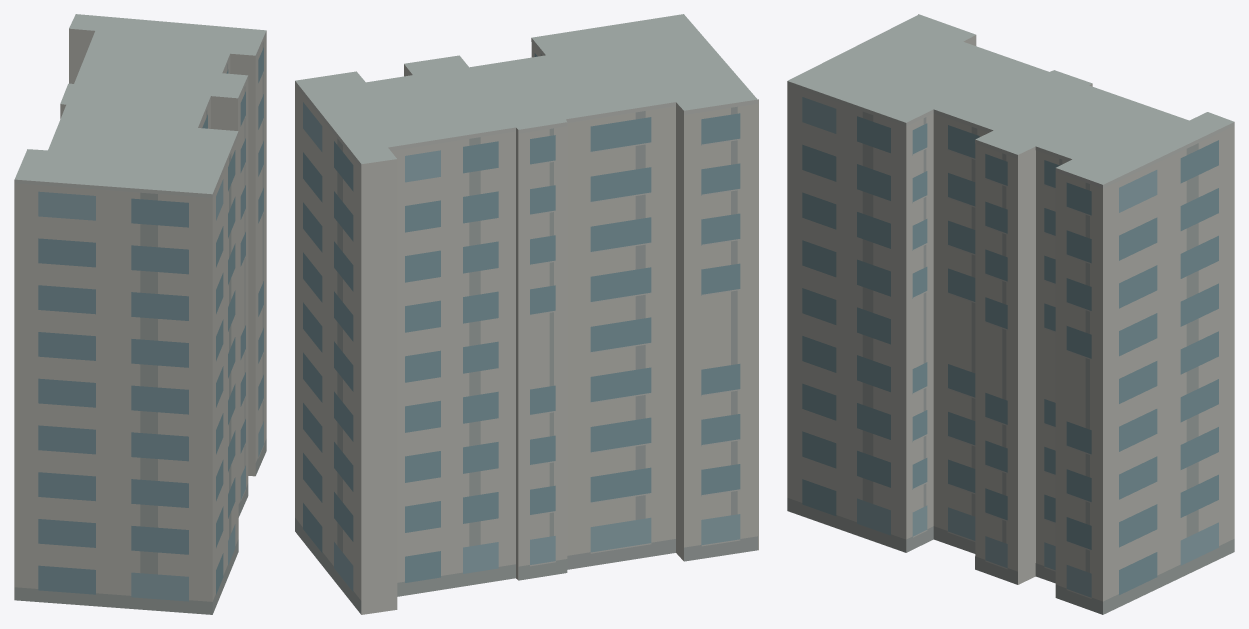
The model's file is survey-upis-32978491.glb.
The picture shows the model from 3 angles, left to right: view 1: azimuth 30°, elevation 25°; view 2: azimuth 150°, elevation 25°; view 3: azimuth 270°, elevation 25°; orthographic projection. The views are drawn at different scales.
Parts seen in each view (by area): view 1: survey-upis-32978491.tmp; view 2: survey-upis-32978491.tmp; view 3: survey-upis-32978491.tmp.
Part boxes in pixels (box(x1,y1,x2,y2)): survey-upis-32978491.tmp: box(14, 14, 266, 614); survey-upis-32978491.tmp: box(295, 14, 758, 614); survey-upis-32978491.tmp: box(787, 14, 1234, 614).
Size of the model in its own units: 22.76 by 26.7 by 25.18.
